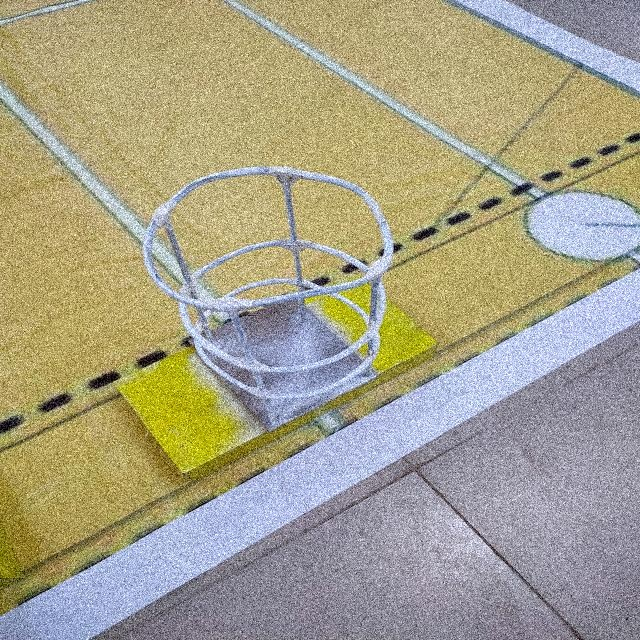silo: (130, 145, 408, 436)
